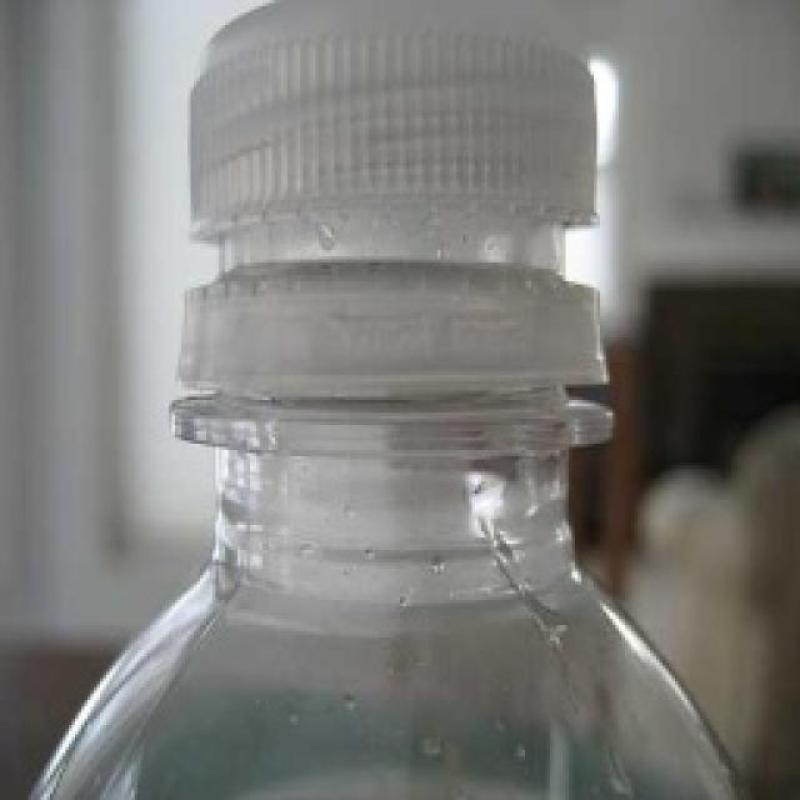botella: (36, 0, 752, 800)
